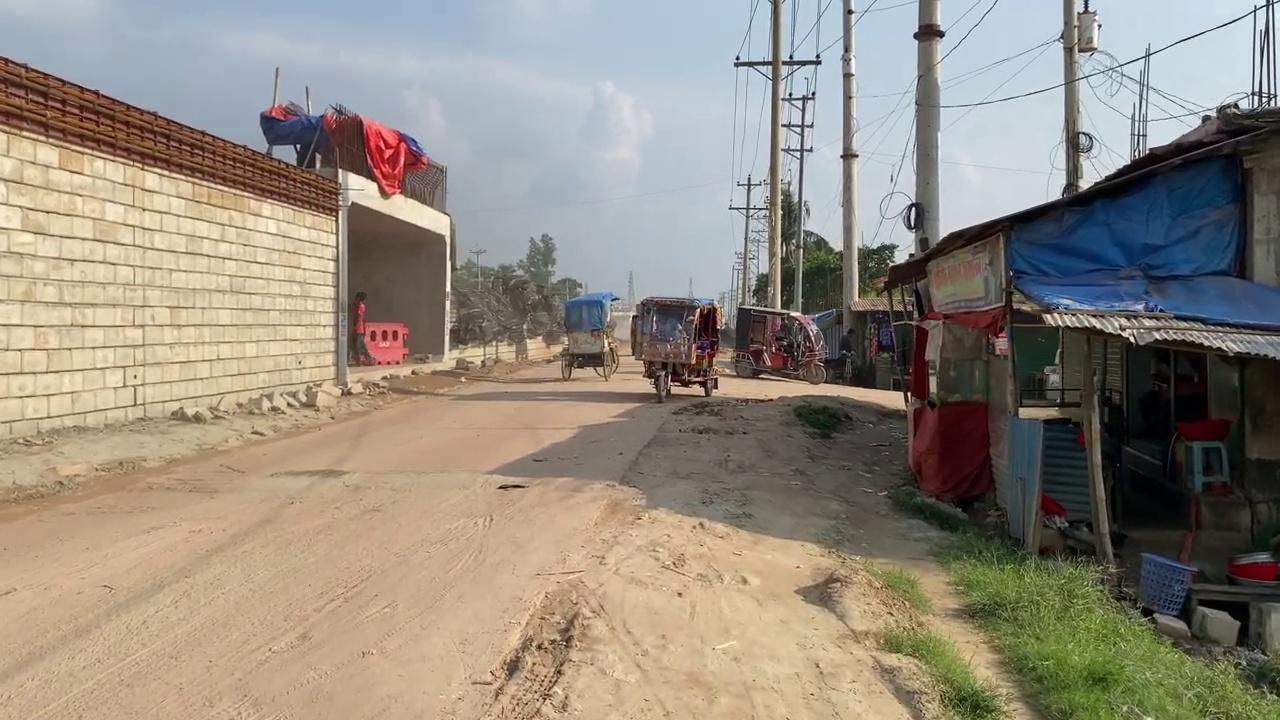Construction-barrier: (362, 321, 409, 364)
Obstacle: (879, 111, 1278, 601)
Pole: (912, 0, 943, 255), (839, 0, 861, 354), (766, 0, 783, 310), (1060, 0, 1081, 194)
Railroad-crossing: (558, 292, 619, 381)
Rickshaw: (466, 383, 933, 703)
Traffic-sign: (517, 232, 556, 293)
Tree: (629, 295, 722, 403), (734, 307, 856, 371)
